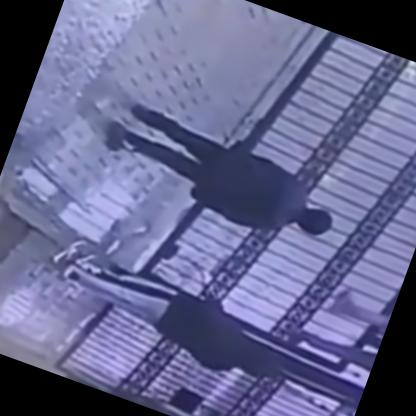Human Body: (24, 222, 305, 406), (87, 90, 353, 262)
